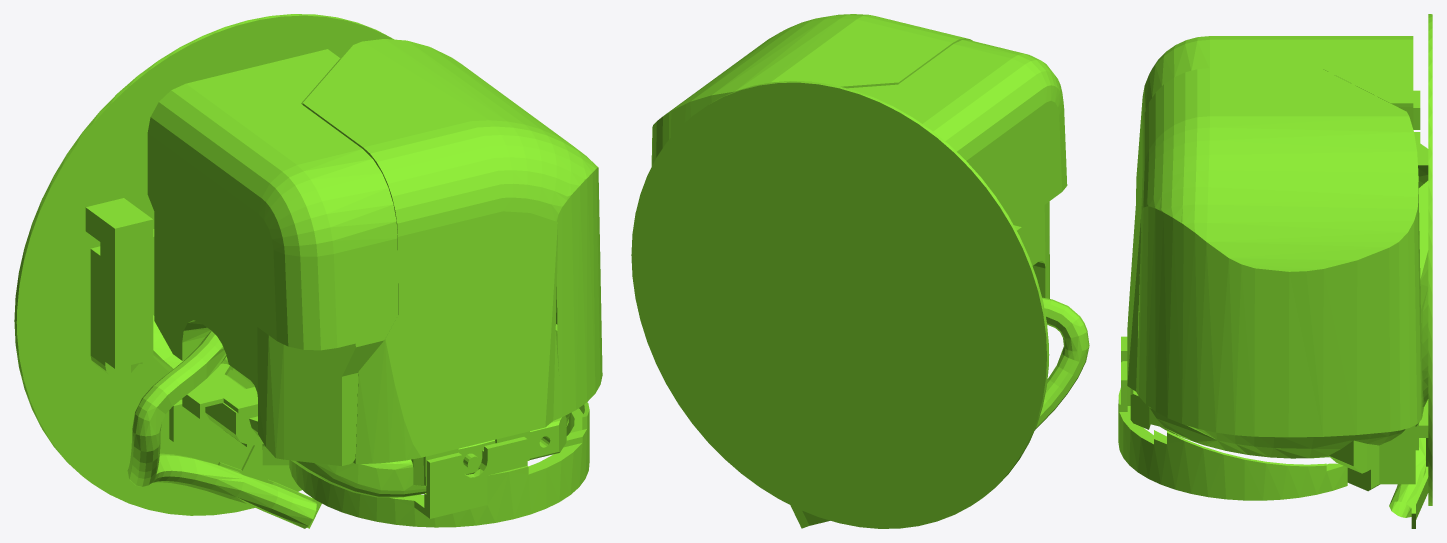
The picture shows the model from 3 angles, left to right: view 1: azimuth 30°, elevation 25°; view 2: azimuth 150°, elevation 25°; view 3: azimuth 270°, elevation 25°; orthographic projection. The views are drawn at different scales.
Parts seen in each view (by area): view 1: node; view 2: node; view 3: node.
Boxes of the visible parts, x1,y1,x2,y2 form: node: (14,14,602,528); node: (631,14,1089,528); node: (1118,14,1432,528).
Bounding box in the file's own units: 376 × 384 × 233.
